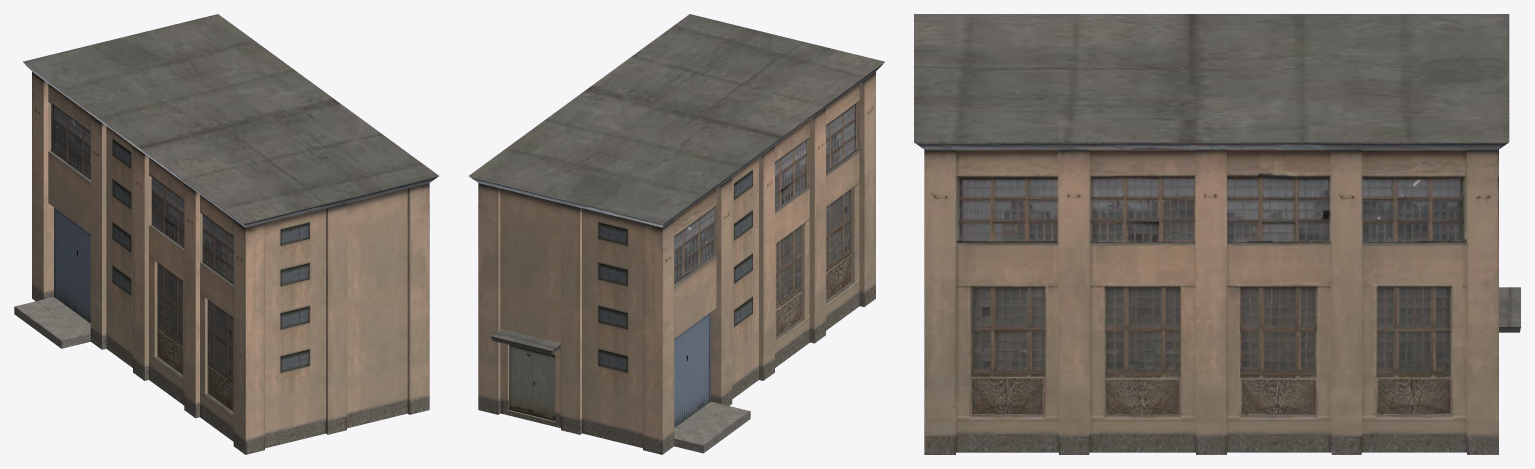
The model's file is factory-hall.lod1.glb.
3 views of the same model, side by side, from view 1: azimuth 30°, elevation 25°; view 2: azimuth 150°, elevation 25°; view 3: azimuth 270°, elevation 25° (orthographic). The views are drawn at different scales.
Visible parts, largest first — view 1: factory_1_factory_1_0; view 2: factory_1_factory_1_0; view 3: factory_1_factory_1_0.
Part boxes in pixels (x1,y1,x2,y2): factory_1_factory_1_0: (14,14,438,454); factory_1_factory_1_0: (469,14,884,454); factory_1_factory_1_0: (914,14,1520,454).
Size of the model in its own units: 14.59 by 14.96 by 26.
1 material, 1 textured.
